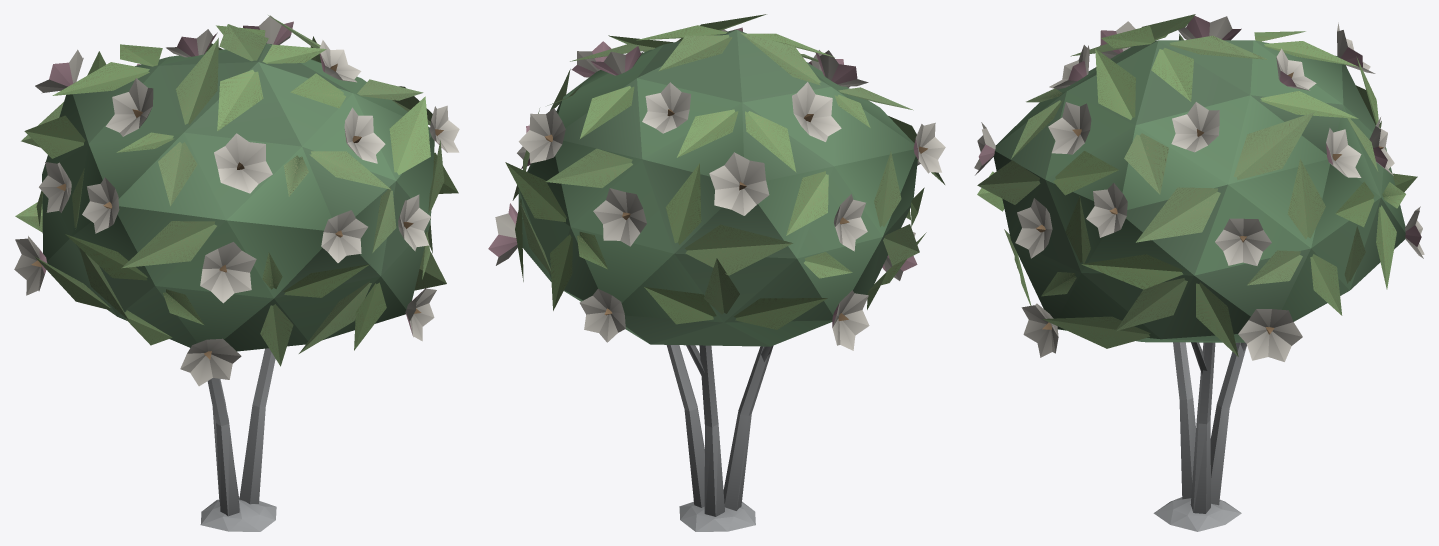
File: magnolia.glb
3 renders of one model, left to right at view 1: azimuth 30°, elevation 25°; view 2: azimuth 150°, elevation 25°; view 3: azimuth 270°, elevation 25°, orthographic.
Parts seen in each view (by area): view 1: magnolia; view 2: magnolia; view 3: magnolia.
Boxes of the visible parts, bbox=[...] form: magnolia: bbox=[14, 15, 459, 531]; magnolia: bbox=[488, 14, 945, 531]; magnolia: bbox=[974, 14, 1424, 531].
Size of the model in its own units: 5.39 by 6.71 by 5.6.
